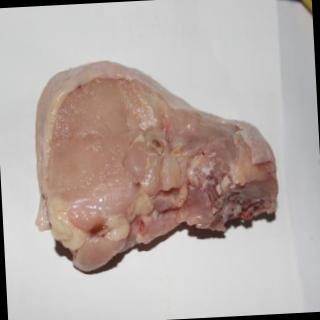Ayam: (33, 52, 283, 276)
